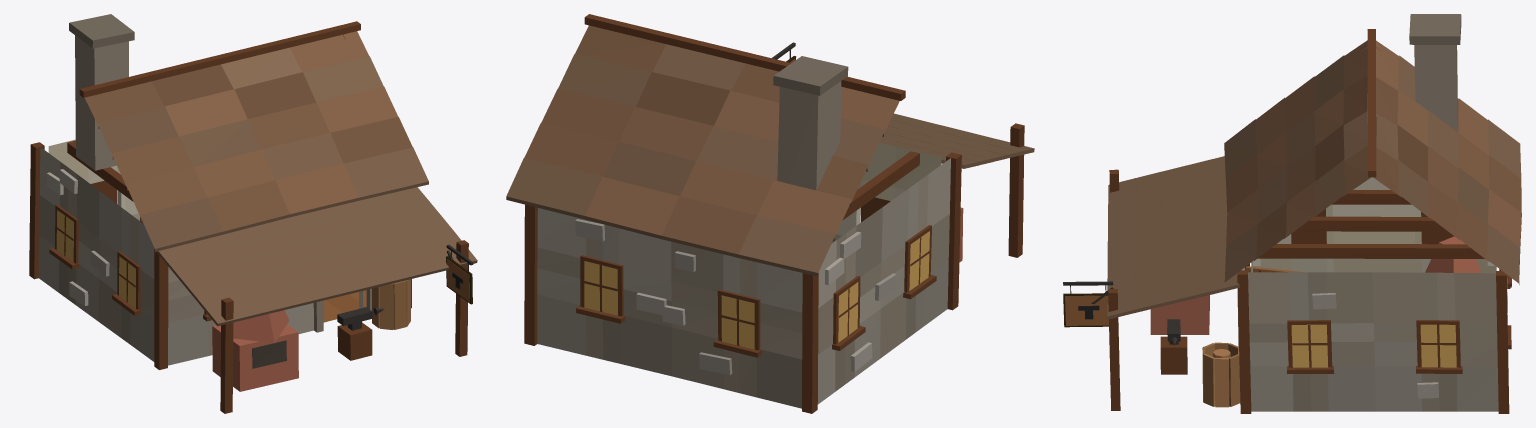
Rendered from smithy.glb.
The picture shows the model from 3 angles, left to right: view 1: azimuth 30°, elevation 25°; view 2: azimuth 150°, elevation 25°; view 3: azimuth 270°, elevation 25°; orthographic projection. The views are drawn at different scales.
Visible parts, largest first — view 1: buildings/smithy; view 2: buildings/smithy; view 3: buildings/smithy.
Part boxes in pixels (bbox=[...]): buildings/smithy: bbox=[29, 14, 477, 413]; buildings/smithy: bbox=[506, 14, 1034, 413]; buildings/smithy: bbox=[1063, 14, 1521, 413].
Bounding box in the file's own units: 5.71 × 5.23 × 7.79.
